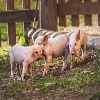heo: (33, 32, 69, 76), (8, 42, 42, 81), (66, 26, 86, 69)
